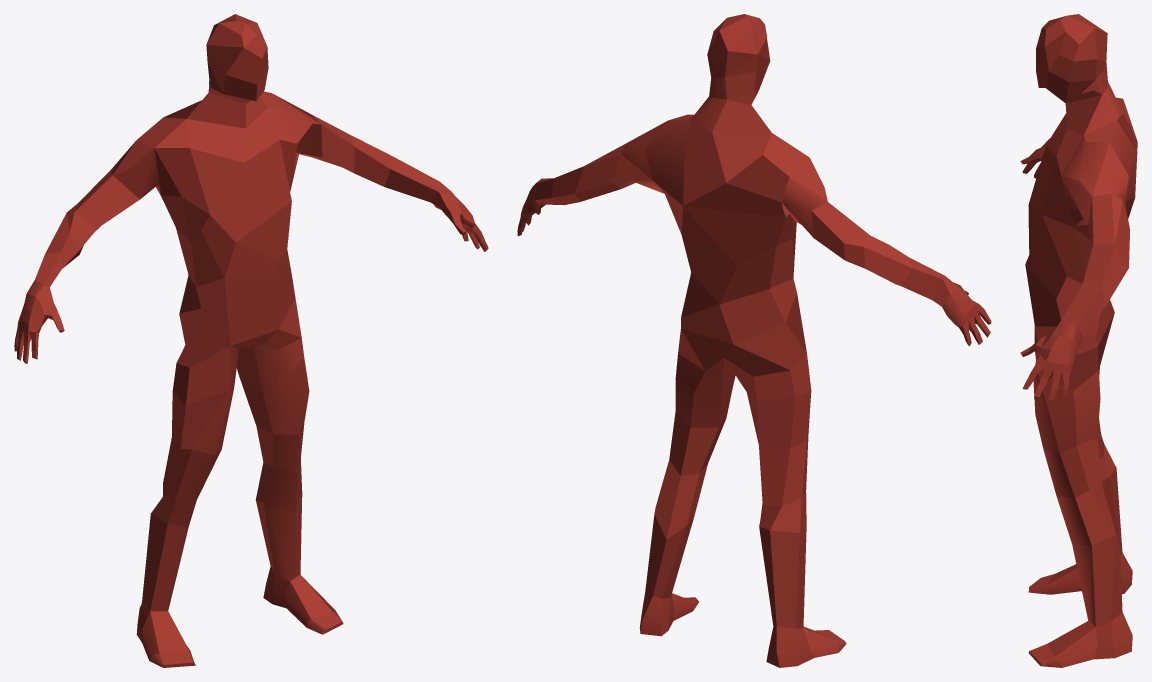
File: Enemy_model.fbx
The picture shows the model from 3 angles, left to right: view 1: azimuth 30°, elevation 25°; view 2: azimuth 150°, elevation 25°; view 3: azimuth 270°, elevation 25°; orthographic projection.
Visible parts, largest first — view 1: polySurface1; view 2: polySurface1; view 3: polySurface1.
Part boxes in pixels (x1,y1,x2,y2): polySurface1: [14, 14, 488, 667]; polySurface1: [517, 14, 991, 667]; polySurface1: [1020, 14, 1137, 667].
Size of the model in its own units: 46.55 by 59.22 by 10.41.
